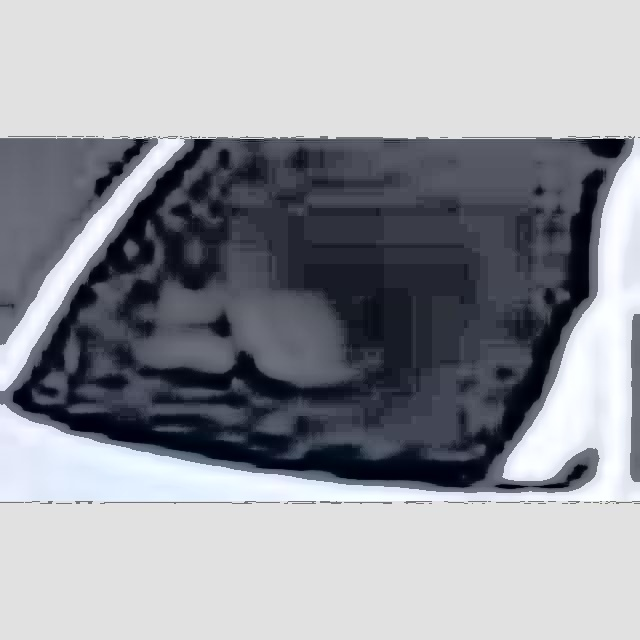pakai: (115, 215, 325, 397)
